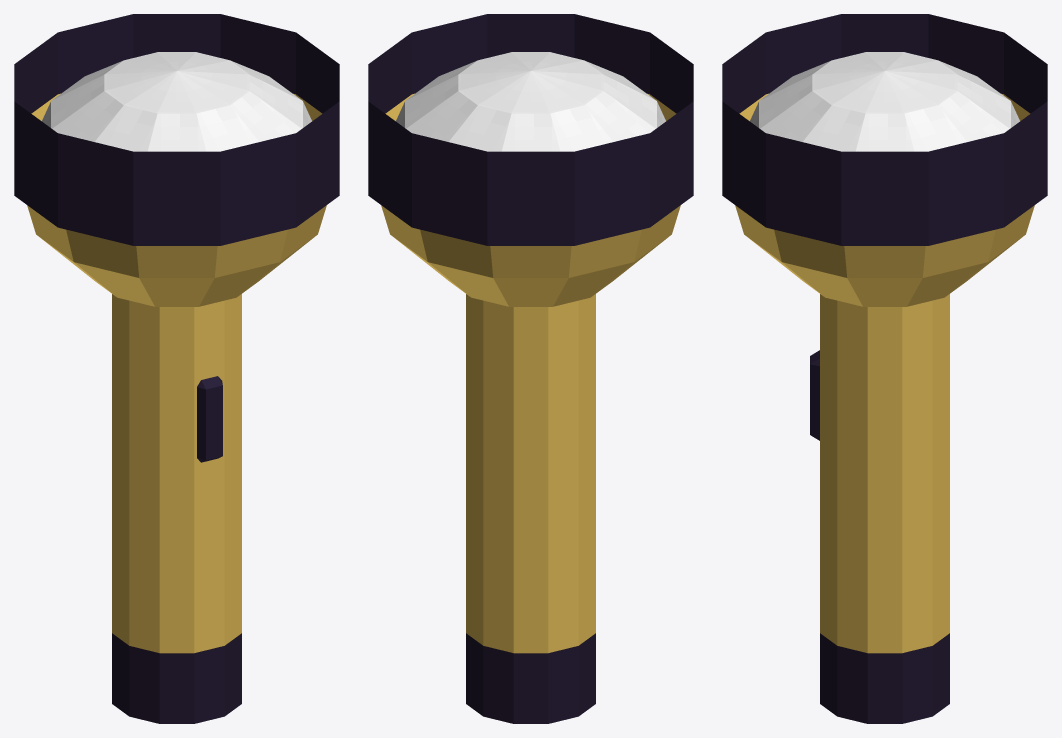
File: Lanterna.gltf
3 views of the same model, side by side, from view 1: azimuth 30°, elevation 25°; view 2: azimuth 150°, elevation 25°; view 3: azimuth 270°, elevation 25° (orthographic).
Parts seen in each view (by area): view 1: cylinder (×3), sphere (×2), beveled_cuboid; view 2: cylinder (×3), sphere (×2); view 3: cylinder (×3), sphere (×2), beveled_cuboid.
Boxes of the visible parts, x1,y1,x2,y2 form: cylinder (×3): (14,14,339,723); sphere (×2): (27,52,326,306); beveled_cuboid: (197,376,222,462); cylinder (×3): (368,14,693,723); sphere (×2): (381,52,680,306); cylinder (×3): (722,14,1047,723); sphere (×2): (735,52,1034,306); beveled_cuboid: (810,350,819,440).
Size of the model in its own units: 0.3125 by 0.6625 by 0.3125.
3 materials, 3 textured.
